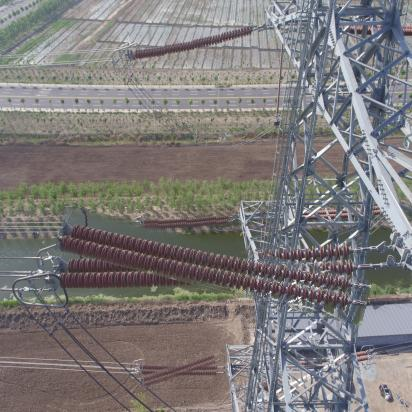insulator: (57, 225, 373, 309), (130, 24, 259, 61), (141, 358, 223, 383), (141, 212, 234, 232)
